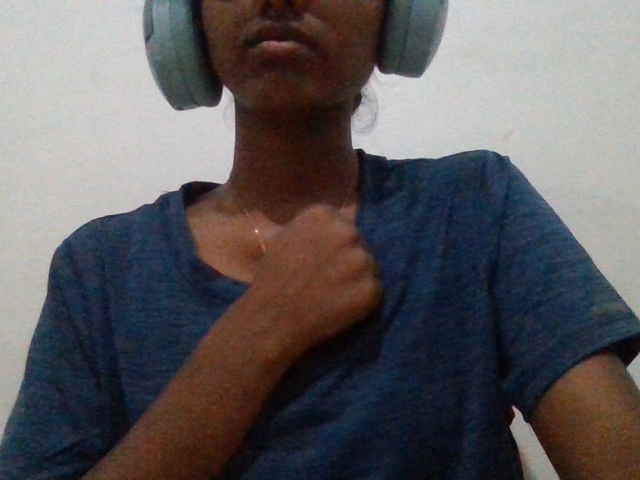Sorry: (219, 186, 401, 400)
